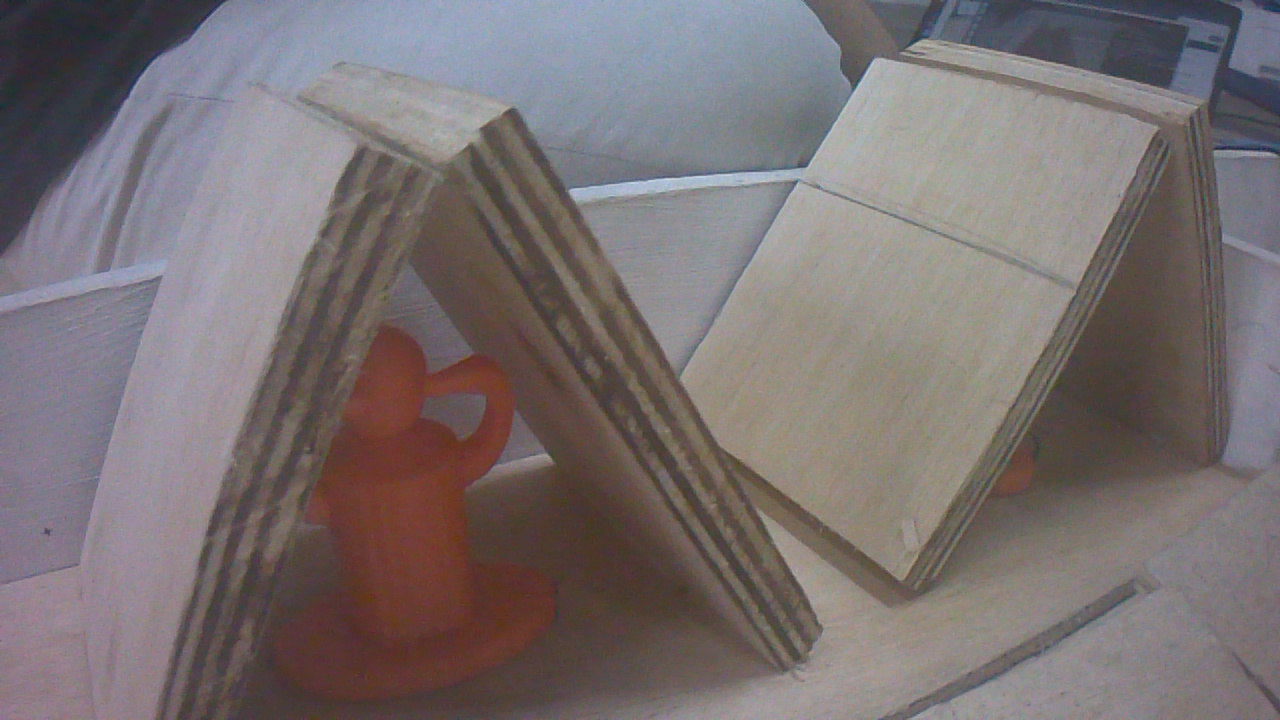real: (261, 318, 563, 697)
